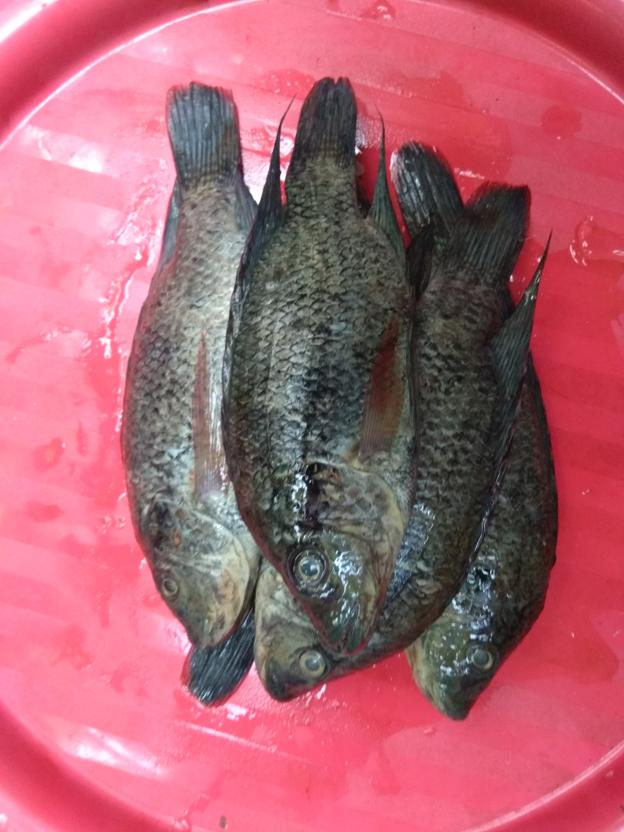Fish head: (253, 459, 406, 655), (250, 561, 377, 702), (404, 581, 528, 722), (139, 498, 243, 650)
Fish tail: (430, 178, 534, 289), (178, 583, 260, 711), (162, 81, 241, 191), (393, 138, 467, 242), (287, 76, 361, 171)
